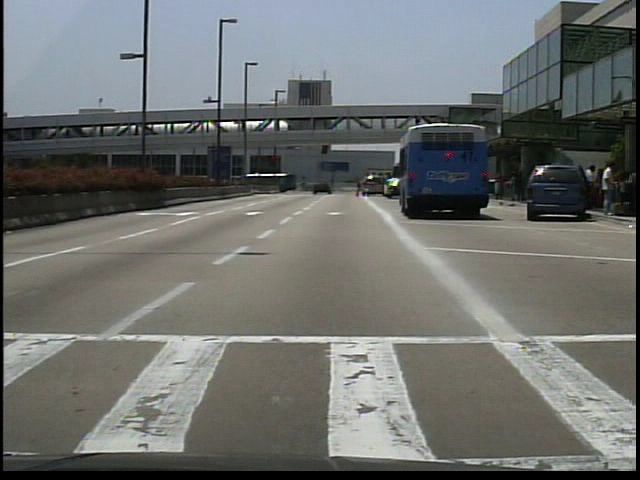person: (598, 162, 618, 218), (596, 166, 611, 213), (516, 168, 528, 204), (585, 164, 598, 182), (315, 182, 324, 197)
